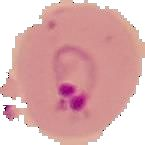parasitized: (46, 40, 113, 120)
